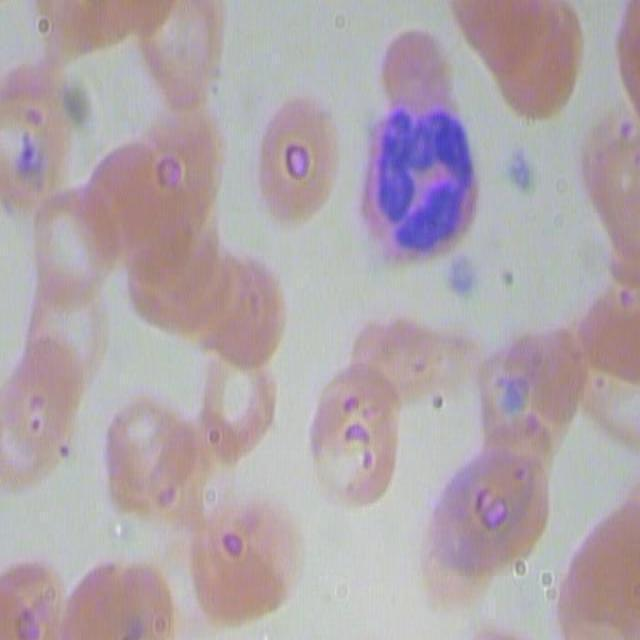Platelets: (500, 140, 538, 201)
RBC: (425, 430, 554, 582), (183, 487, 308, 632), (468, 317, 590, 456), (297, 366, 407, 506), (242, 88, 352, 228), (145, 213, 249, 347), (120, 211, 224, 344), (186, 243, 290, 376), (480, 1, 590, 123), (551, 488, 639, 640), (12, 181, 123, 300), (123, 1, 234, 119), (8, 263, 119, 381), (0, 331, 94, 460), (82, 135, 176, 264), (135, 87, 229, 216), (125, 179, 219, 308), (60, 544, 186, 640), (343, 295, 441, 412), (95, 393, 185, 519), (194, 335, 284, 460), (131, 416, 221, 541), (367, 21, 466, 128)
WBC: (355, 103, 482, 264)
